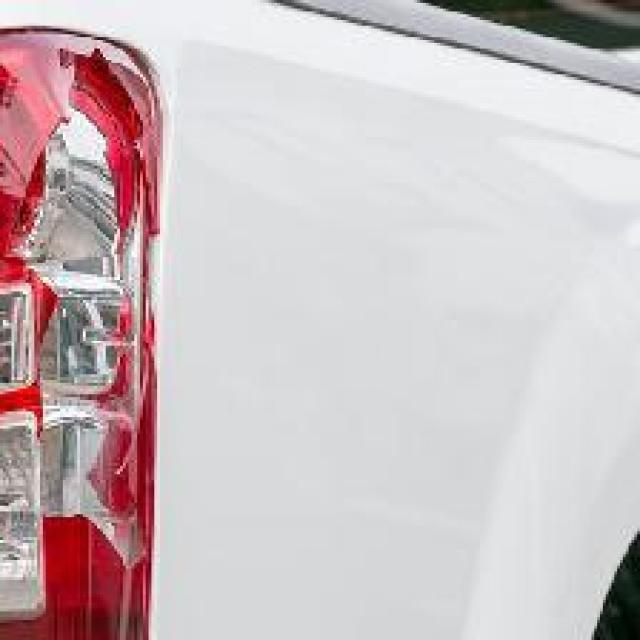damaged: (11, 48, 160, 580)
